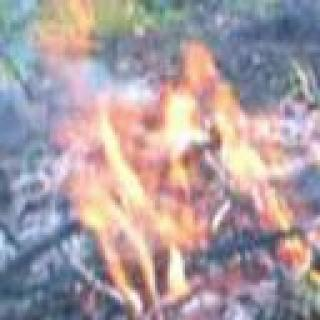fire: (48, 43, 320, 306)
